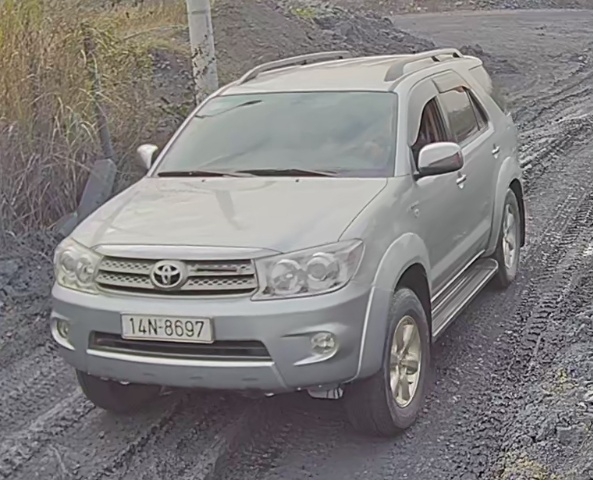vehicle plate: (119, 311, 213, 344)
